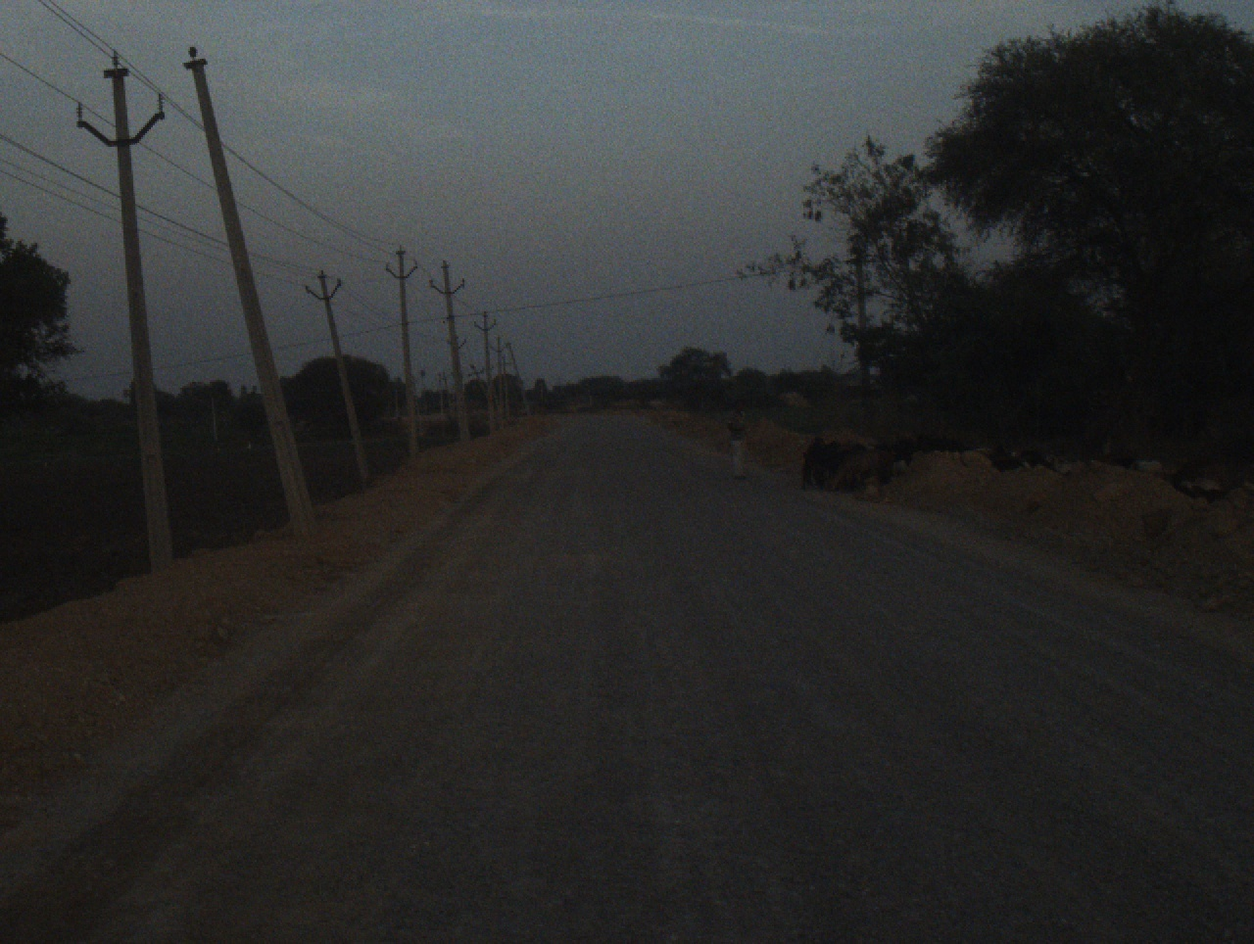animal: (1055, 429, 1159, 472), (801, 429, 855, 488), (1174, 457, 1230, 497), (871, 427, 908, 470), (986, 438, 1034, 468)
person: (721, 399, 754, 481)
